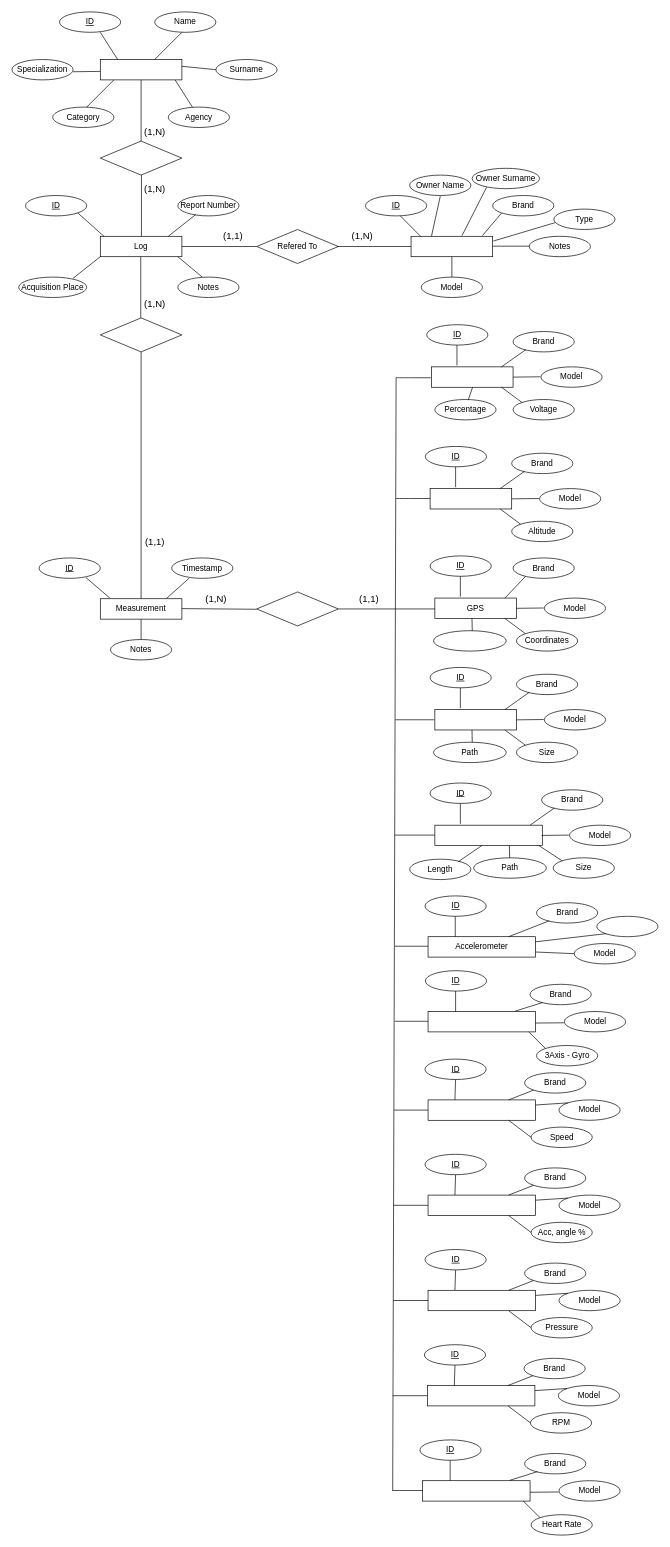
This 670x1547 diagram has some shape labels left out. Each missing label, with the box of its shape:
3Axis - Accel: (596, 916, 658, 937)
Acquired By: (100, 140, 182, 175)
Barometer: (429, 488, 512, 509)
Battery: (431, 366, 513, 387)
Brake Sensor: (427, 1290, 536, 1311)
Contains: (100, 317, 182, 352)
Device: (410, 236, 493, 257)
Digital Investigator: (100, 59, 182, 80)
Gyroscope: (427, 1011, 536, 1032)
Has Data Of: (256, 591, 338, 626)
Heart Rate Monitor: (422, 1480, 530, 1501)
Photo: (434, 709, 516, 730)
Potentiometer: (427, 1194, 536, 1216)
Satellites Number: (433, 630, 506, 651)
Tachometer: (427, 1385, 535, 1406)
Video: (434, 825, 542, 846)
Wheel Speed Sensor: (427, 1099, 536, 1120)
